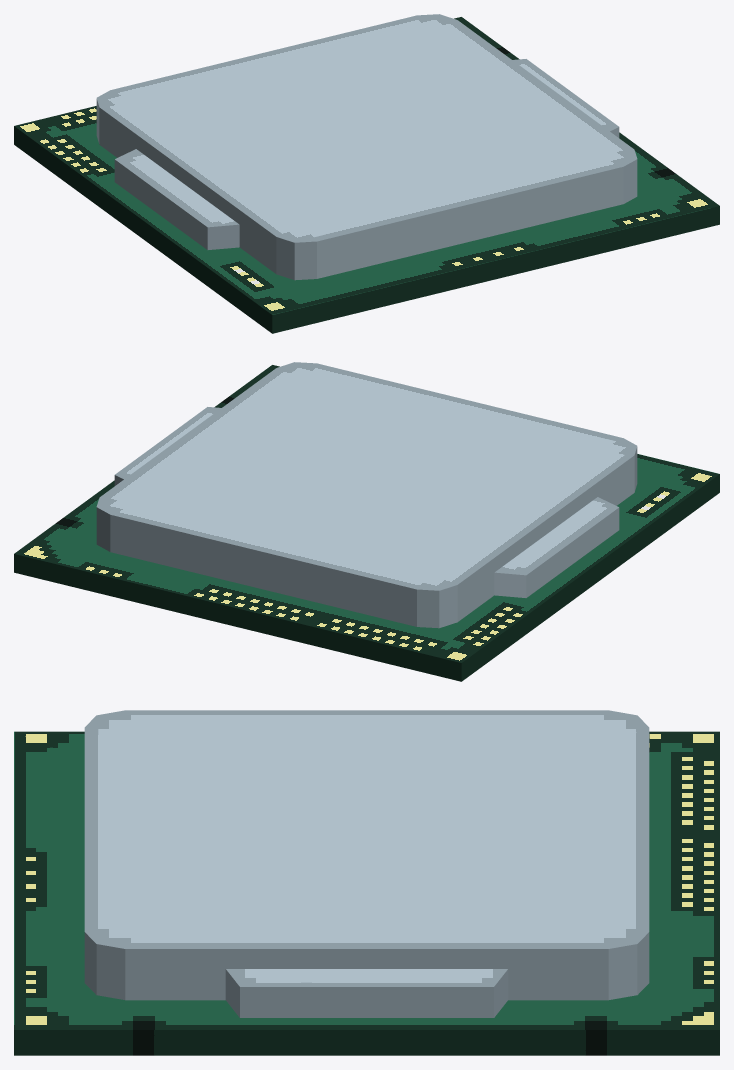
The model's file is cpu.e2805bf7.glb.
3 renders of one model, top to bottom at view 1: azimuth 30°, elevation 25°; view 2: azimuth 150°, elevation 25°; view 3: azimuth 270°, elevation 25°, orthographic. The views are drawn at different scales.
Parts seen in each view (by area): view 1: Cube; view 2: Cube; view 3: Cube.
Boxes of the visible parts, bbox=[...] form: Cube: bbox=[14, 14, 719, 333]; Cube: bbox=[14, 362, 719, 681]; Cube: bbox=[14, 710, 719, 1055].
Size of the model in its own units: 2.5 by 0.3 by 2.5.
1 material, 1 textured.
